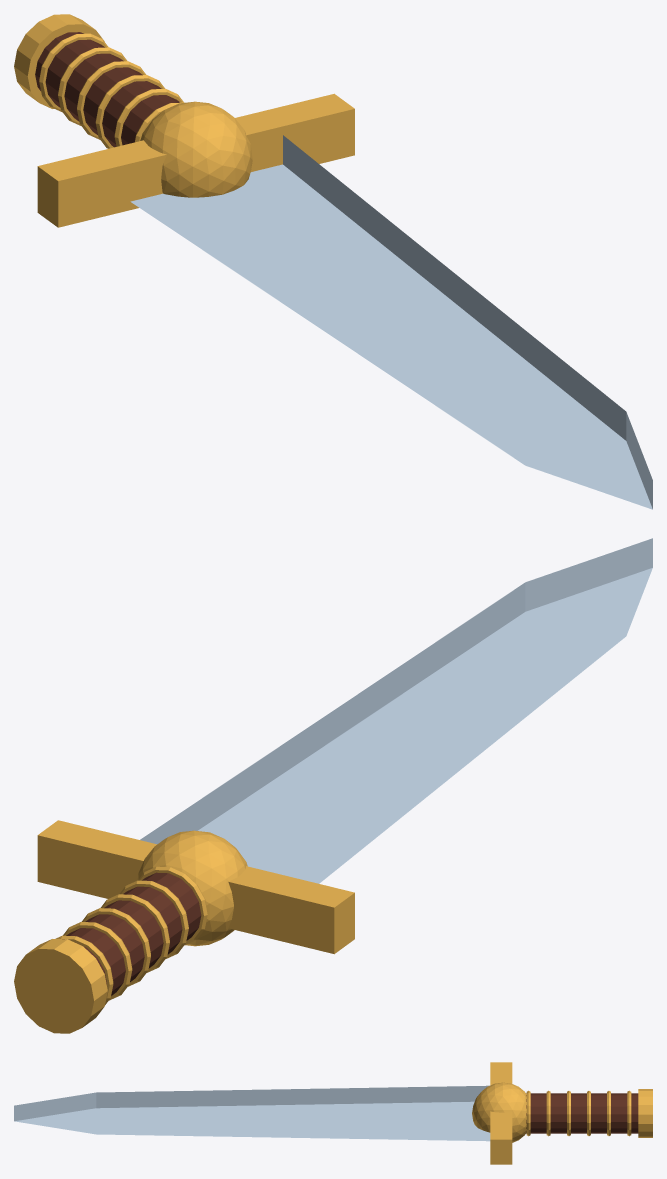
The model's file is roblox_sword.glb.
3 views of the same model, one above another, from view 1: azimuth 30°, elevation 25°; view 2: azimuth 150°, elevation 25°; view 3: azimuth 270°, elevation 25° (orthographic). The views are drawn at different scales.
Visible parts, largest first — view 1: Blade, Crossguard, Pommel, Leather_Grip, Grip_Collar_Bottom, Grip_Wrap_2, Grip_Wrap_3, Grip_Wrap_1, Grip_Wrap_4, Grip_Wrap_5; view 2: Blade, Crossguard, Grip_Collar_Bottom, Leather_Grip, Pommel, Grip_Wrap_4, Grip_Wrap_2, Grip_Wrap_5, Grip_Wrap_3, Grip_Wrap_6; view 3: Blade, Leather_Grip, Pommel, Crossguard, Grip_Collar_Bottom, Grip_Wrap_1, Grip_Wrap_5, Grip_Wrap_6, Grip_Wrap_2, Grip_Wrap_3, Grip_Wrap_4.
Part boxes in pixels (left/top/right/bottom): Blade: left=130, top=135, right=652, bottom=509; Crossguard: left=37, top=93, right=354, bottom=227; Pommel: left=140, top=101, right=252, bottom=197; Leather_Grip: left=35, top=32, right=179, bottom=147; Grip_Collar_Bottom: left=14, top=14, right=104, bottom=108; Grip_Wrap_2: left=58, top=47, right=127, bottom=125; Grip_Wrap_3: left=77, top=61, right=146, bottom=139; Grip_Wrap_1: left=39, top=33, right=108, bottom=112; Grip_Wrap_4: left=95, top=75, right=165, bottom=148; Grip_Wrap_5: left=114, top=89, right=183, bottom=146; Blade: left=140, top=538, right=652, bottom=883; Crossguard: left=37, top=820, right=354, bottom=954; Grip_Collar_Bottom: left=14, top=939, right=107, bottom=1033; Leather_Grip: left=66, top=872, right=201, bottom=995; Pommel: left=137, top=830, right=247, bottom=946; Grip_Wrap_4: left=100, top=894, right=169, bottom=972; Grip_Wrap_2: left=63, top=922, right=132, bottom=1000; Grip_Wrap_5: left=119, top=880, right=188, bottom=958; Grip_Wrap_3: left=81, top=908, right=150, bottom=986; Grip_Wrap_6: left=138, top=866, right=207, bottom=945; Blade: left=14, top=1085, right=490, bottom=1141; Leather_Grip: left=526, top=1093, right=638, bottom=1133; Pommel: left=472, top=1082, right=526, bottom=1142; Crossguard: left=490, top=1062, right=512, bottom=1164; Grip_Collar_Bottom: left=638, top=1089, right=652, bottom=1137; Grip_Wrap_1: left=627, top=1090, right=631, bottom=1136; Grip_Wrap_5: left=546, top=1090, right=550, bottom=1136; Grip_Wrap_6: left=526, top=1090, right=530, bottom=1136; Grip_Wrap_2: left=607, top=1091, right=610, bottom=1135; Grip_Wrap_3: left=587, top=1091, right=590, bottom=1135; Grip_Wrap_4: left=567, top=1091, right=570, bottom=1135.
Size of the model in its own units: 2 by 0.68 by 6.99.
